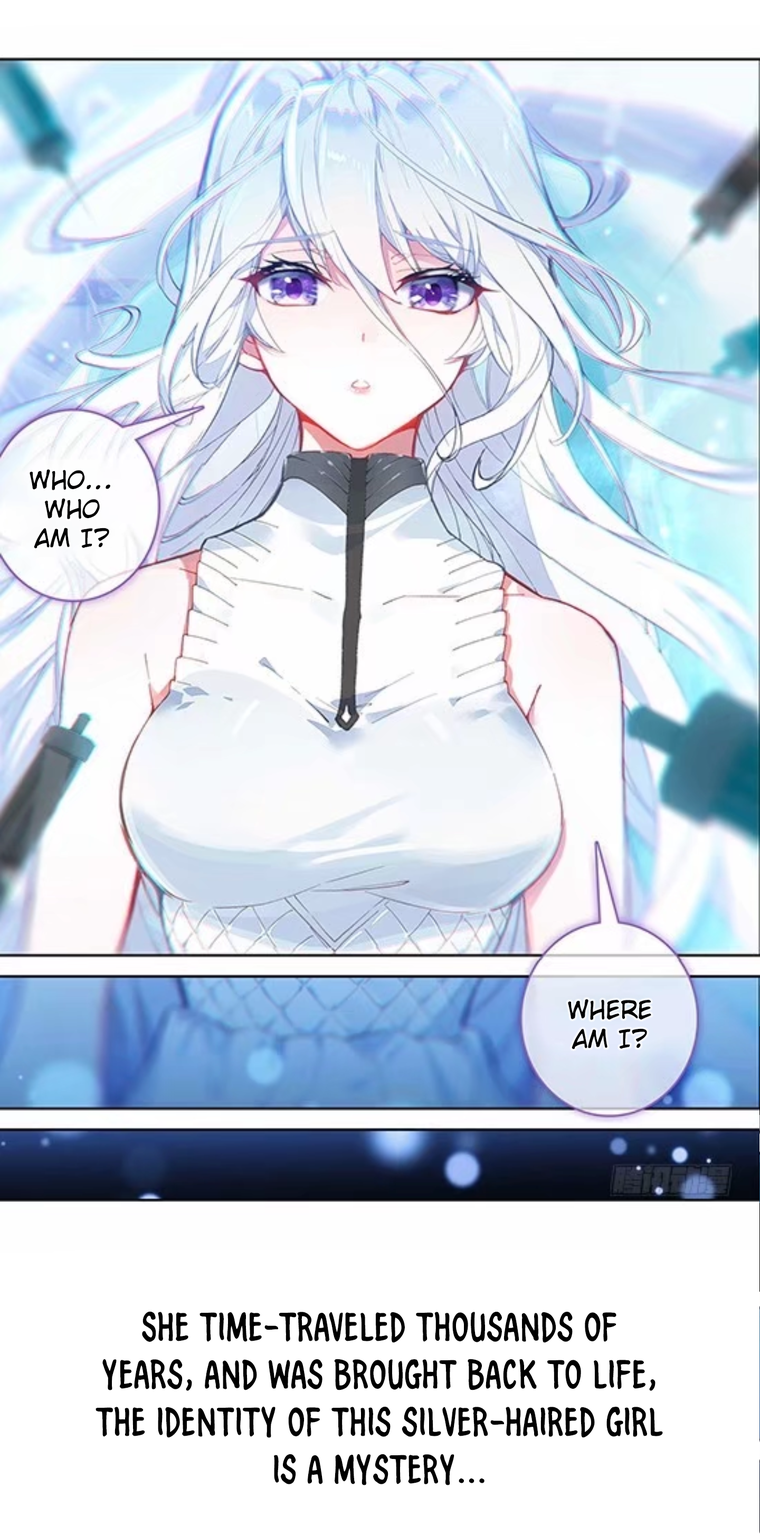bubbles: (517, 910, 701, 1136), (3, 401, 198, 606)
